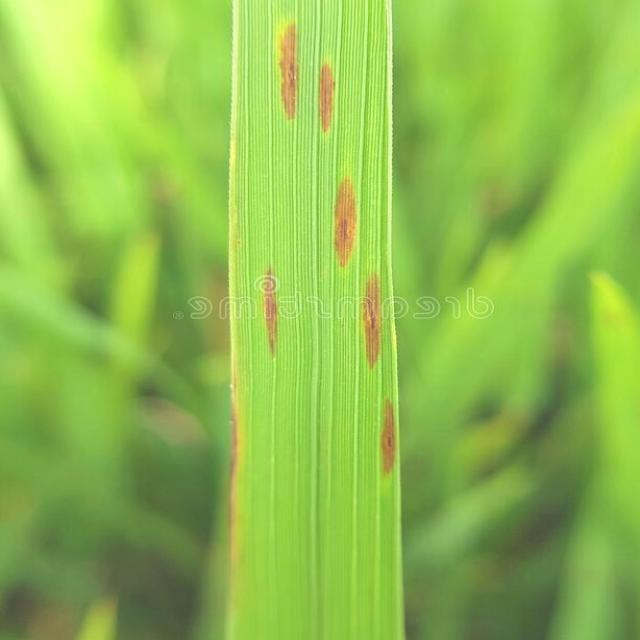Brown_Spot: (338, 264, 411, 366), (269, 8, 318, 122), (363, 392, 423, 478), (252, 259, 294, 365), (325, 171, 372, 265), (317, 60, 345, 138)
